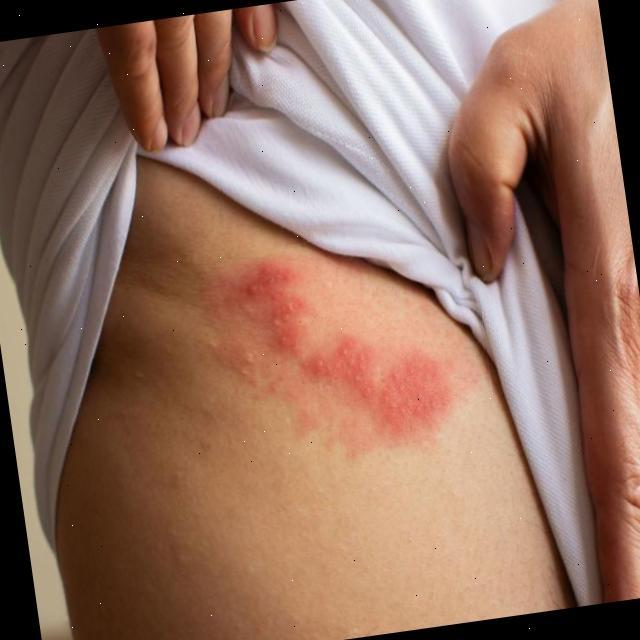Shingles: (202, 258, 455, 450)
